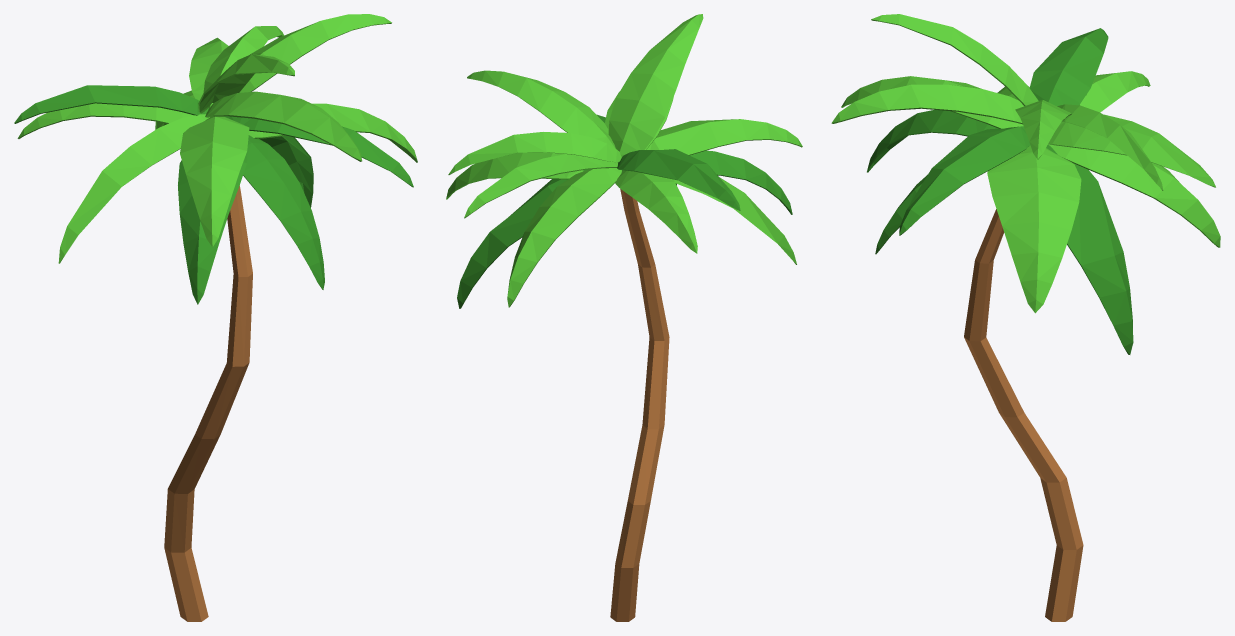
Rendered from palmtree-1.glb.
3 views of the same model, side by side, from view 1: azimuth 30°, elevation 25°; view 2: azimuth 150°, elevation 25°; view 3: azimuth 270°, elevation 25° (orthographic). The views are drawn at different scales.
Parts seen in each view (by area): view 1: PalmTree_1; view 2: PalmTree_1; view 3: PalmTree_1.
Boxes of the visible parts, box(x1,y1,x2,y2) form: PalmTree_1: box(14, 14, 417, 621); PalmTree_1: box(446, 14, 802, 621); PalmTree_1: box(831, 14, 1220, 621).
Size of the model in its own units: 2.88 by 4.47 by 2.61.
